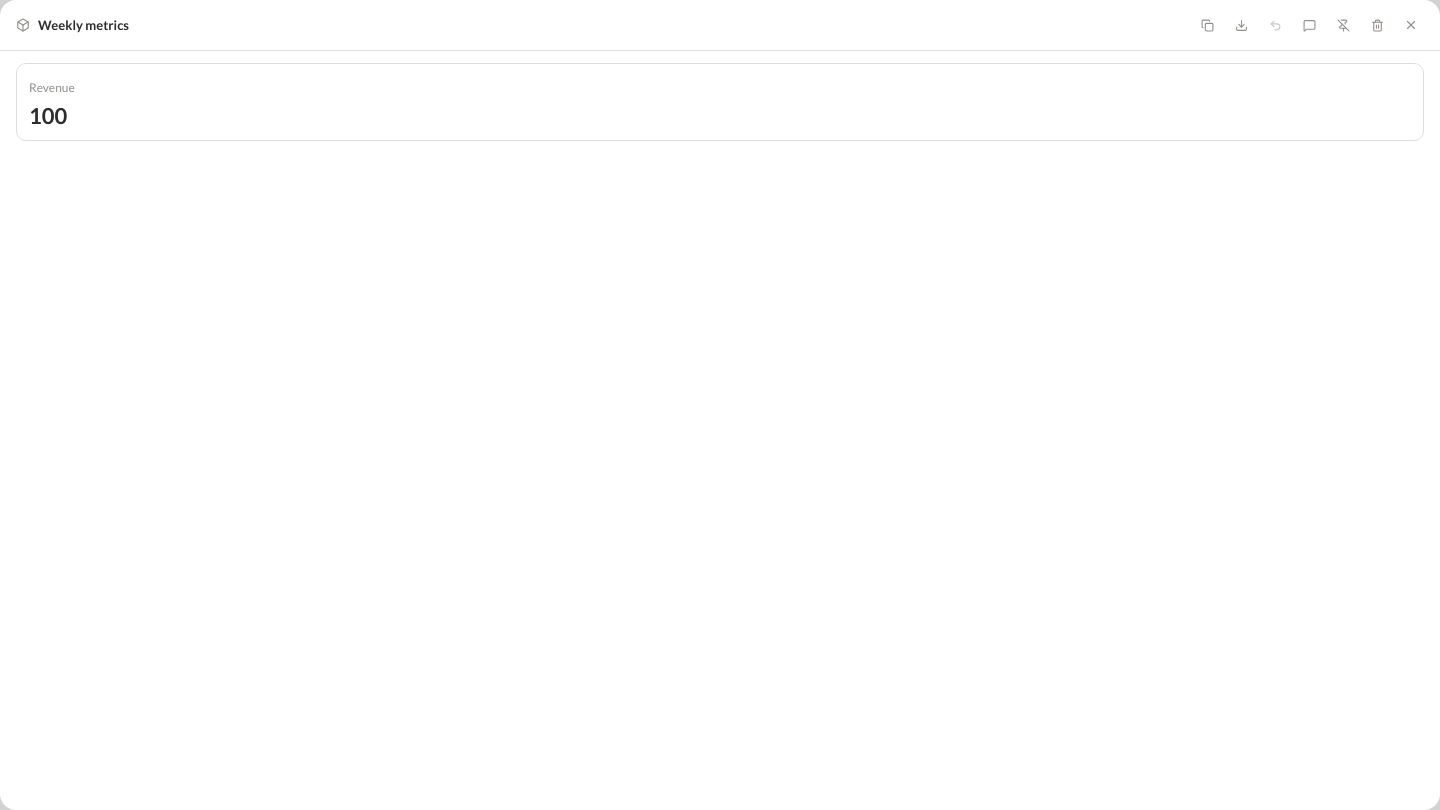
Test case: ArtifactPreview › opens and closes the chat-to-adjust mini-thread panel keyed by artifactId, next to Refresh
This screenshot has width=1440, height=810.
Click the button named "Toggle chat panel": (1309, 25) [1296,12,1322,38]
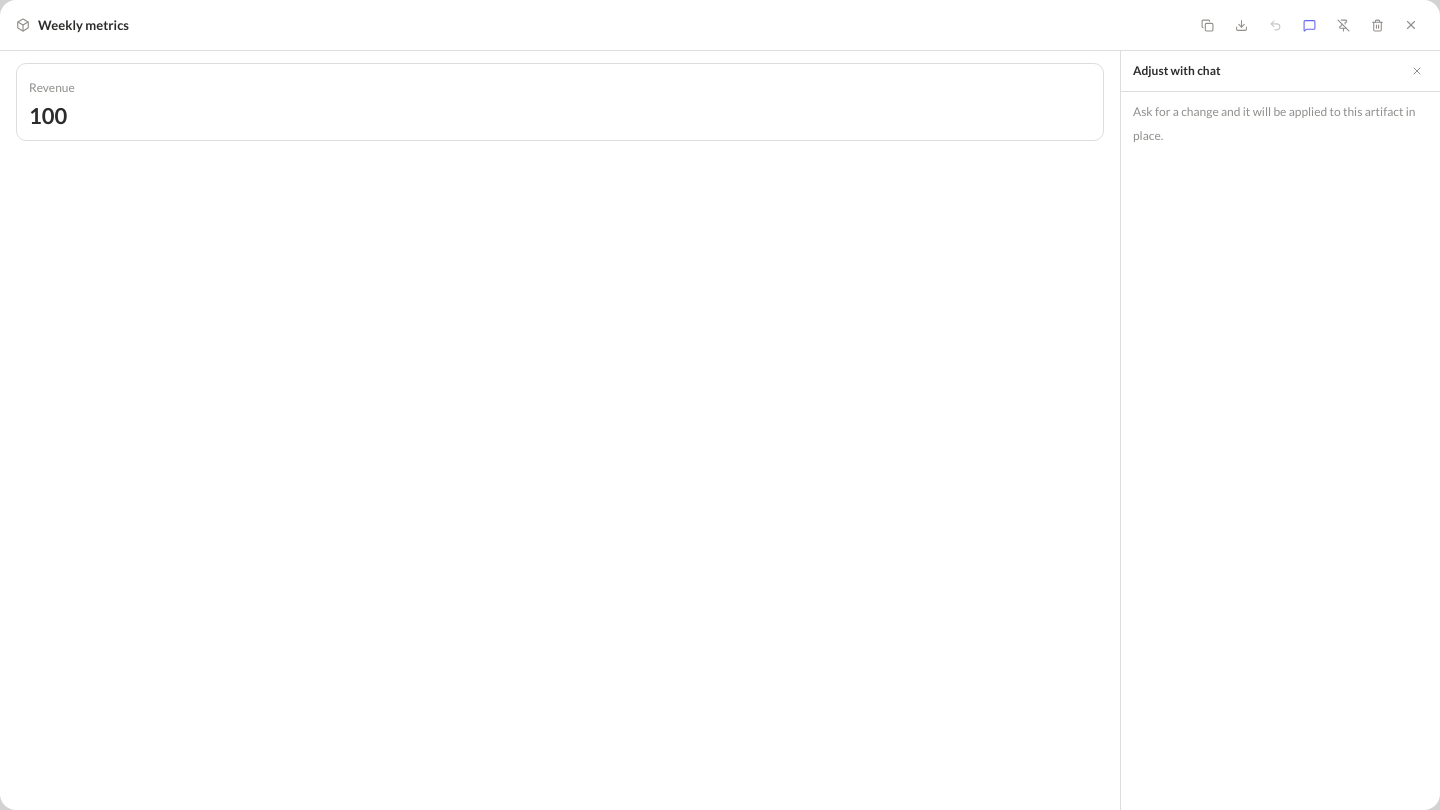
Expected: the element with test id "artifact-chat-panel" is shown, [1120,51,1439,809]
Note: Closing via the panel's own X button (distinct from the header toggle).
Click the button named "Close chat panel": (1417, 71) [1406,60,1428,82]
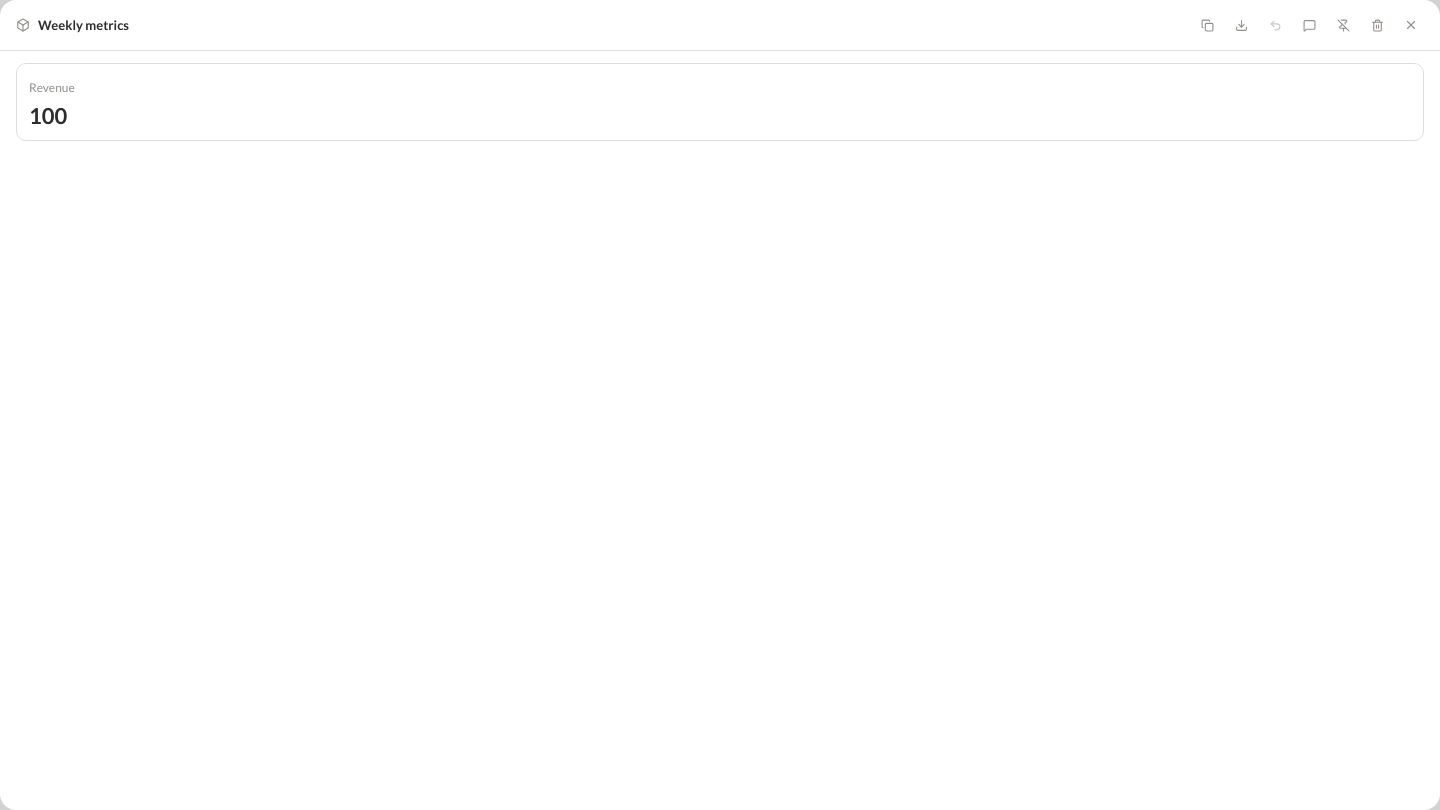
Expected: the element with test id "artifact-chat-panel" is gone
